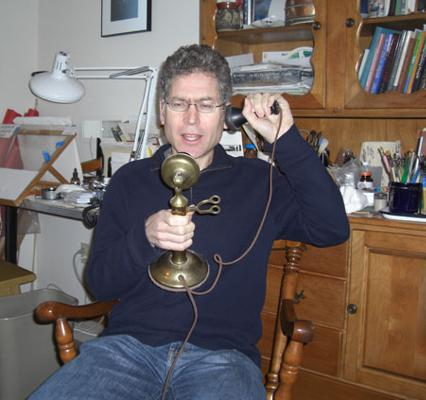person: (22, 44, 352, 399)
